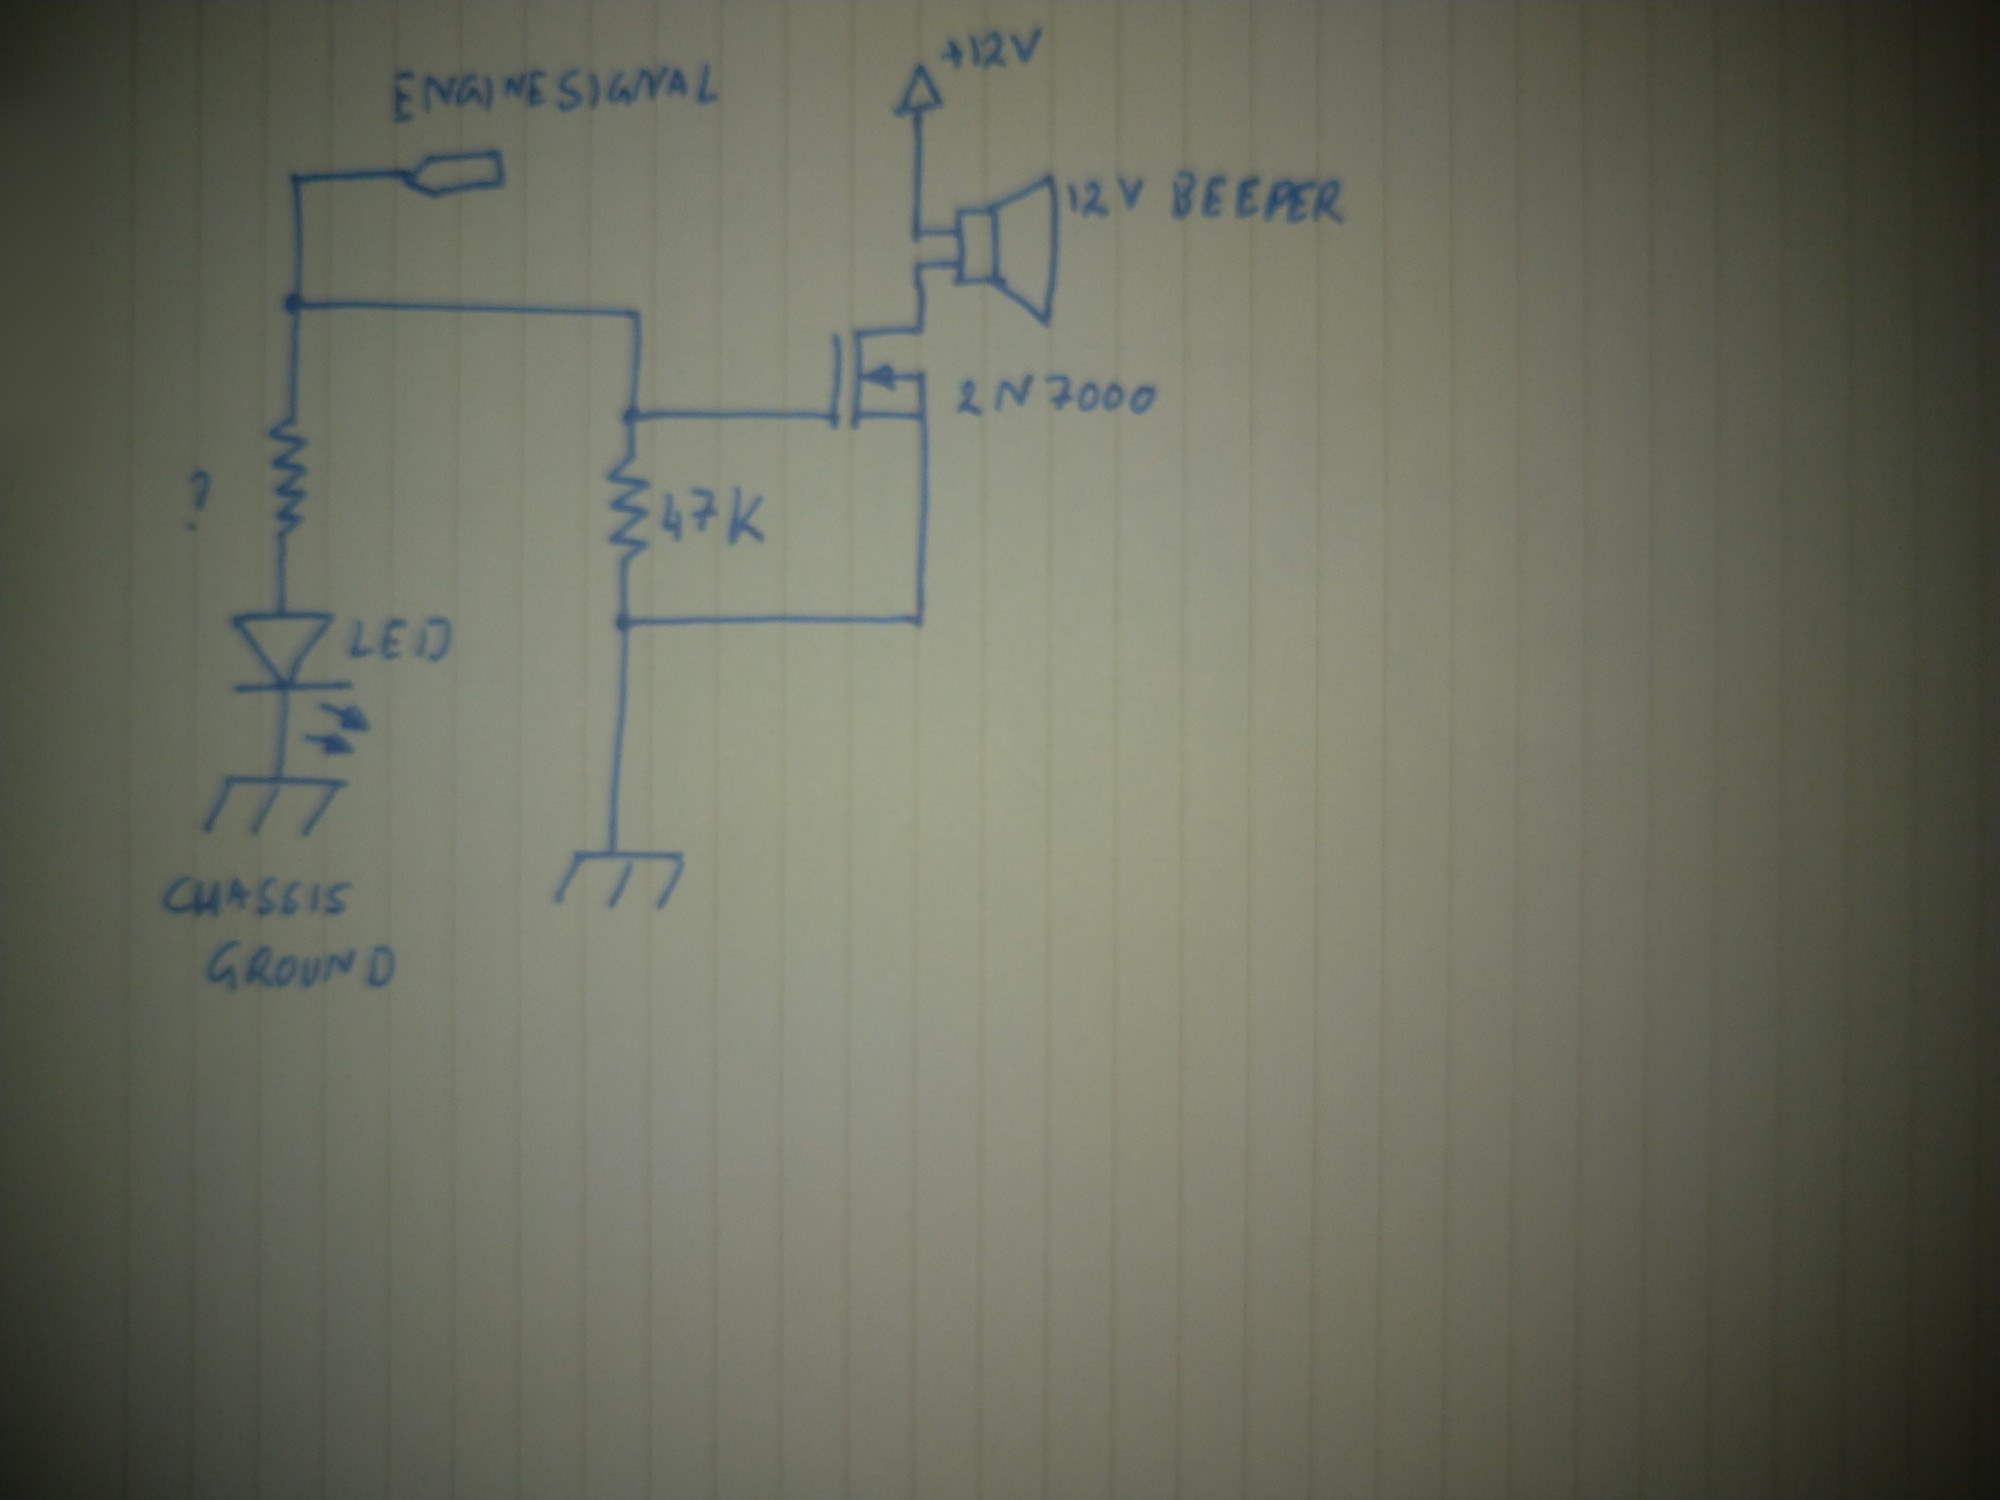diode.light_emitting: (222, 599, 378, 763)
gnd: (195, 767, 353, 845), (546, 845, 691, 919)
junction: (280, 288, 310, 321), (611, 607, 639, 640), (617, 402, 646, 432), (902, 607, 931, 633), (625, 304, 649, 328), (287, 165, 307, 189), (907, 222, 928, 244), (910, 257, 931, 277)
resistor: (598, 447, 660, 570), (265, 413, 313, 547)
speaker: (946, 173, 1071, 331)
terminal: (397, 151, 510, 202), (887, 63, 950, 117)
text: (387, 58, 723, 129), (200, 934, 408, 994), (951, 369, 1165, 422), (1165, 169, 1357, 227), (156, 871, 357, 923), (657, 484, 784, 556), (343, 614, 461, 670), (939, 28, 1049, 79), (1065, 172, 1150, 222), (178, 463, 219, 536)
transistor: (817, 318, 940, 433)
